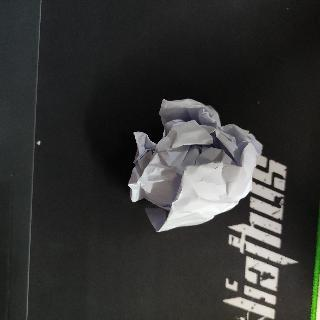8/可回收垃圾/纸: (127, 97, 263, 234)
